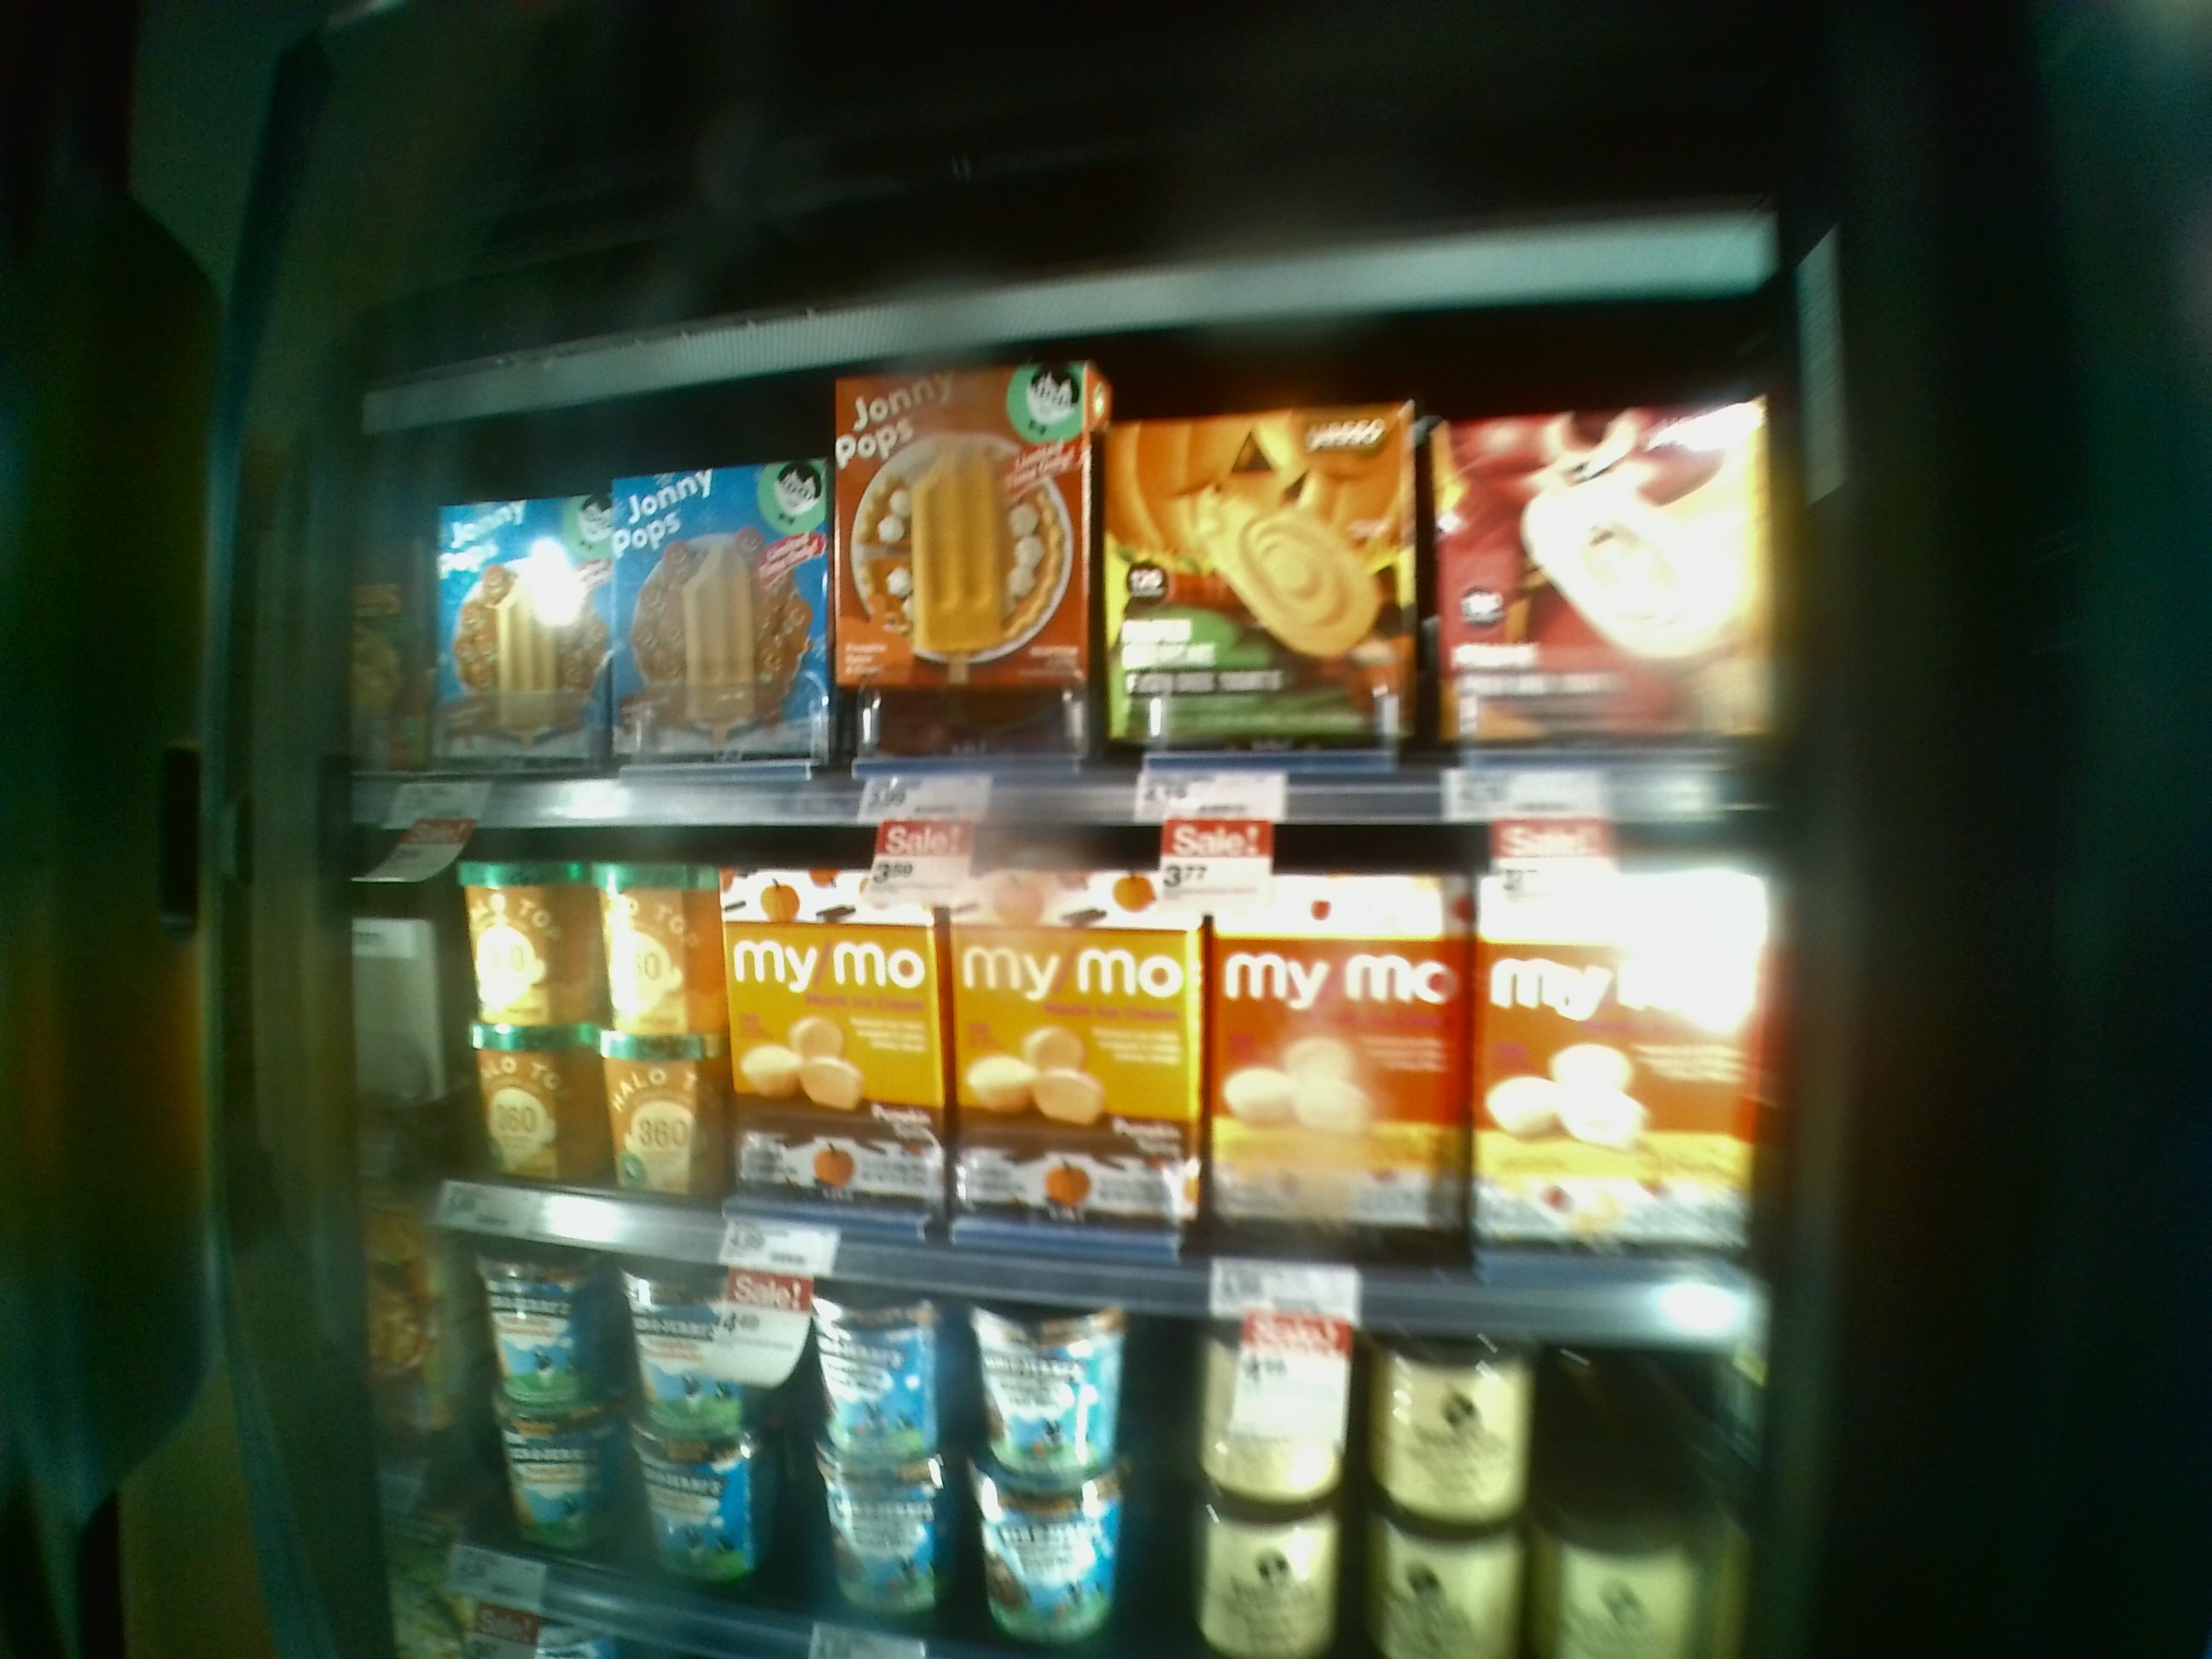shelf: (366, 791, 1743, 1340), (369, 305, 1754, 826)
